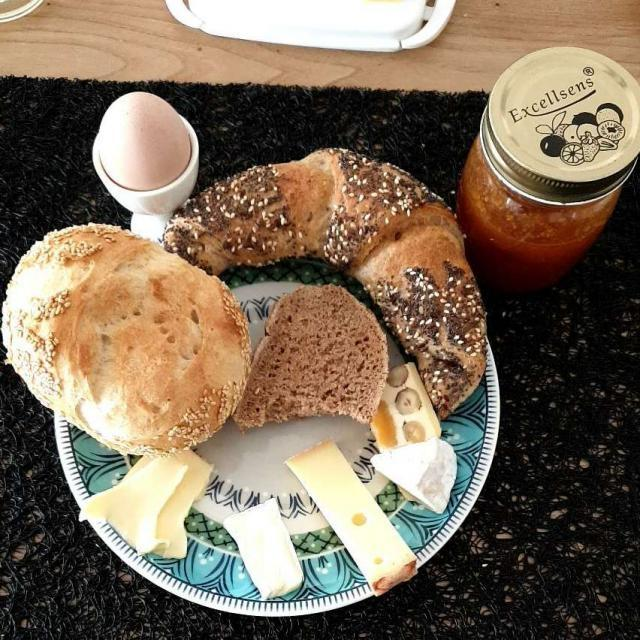bread: (3, 214, 262, 450), (229, 283, 397, 438)
butter: (93, 448, 221, 562)
cheese: (279, 430, 416, 587), (381, 360, 463, 502), (222, 496, 303, 603)
croissant: (158, 166, 483, 411)
egg: (96, 96, 189, 186)
